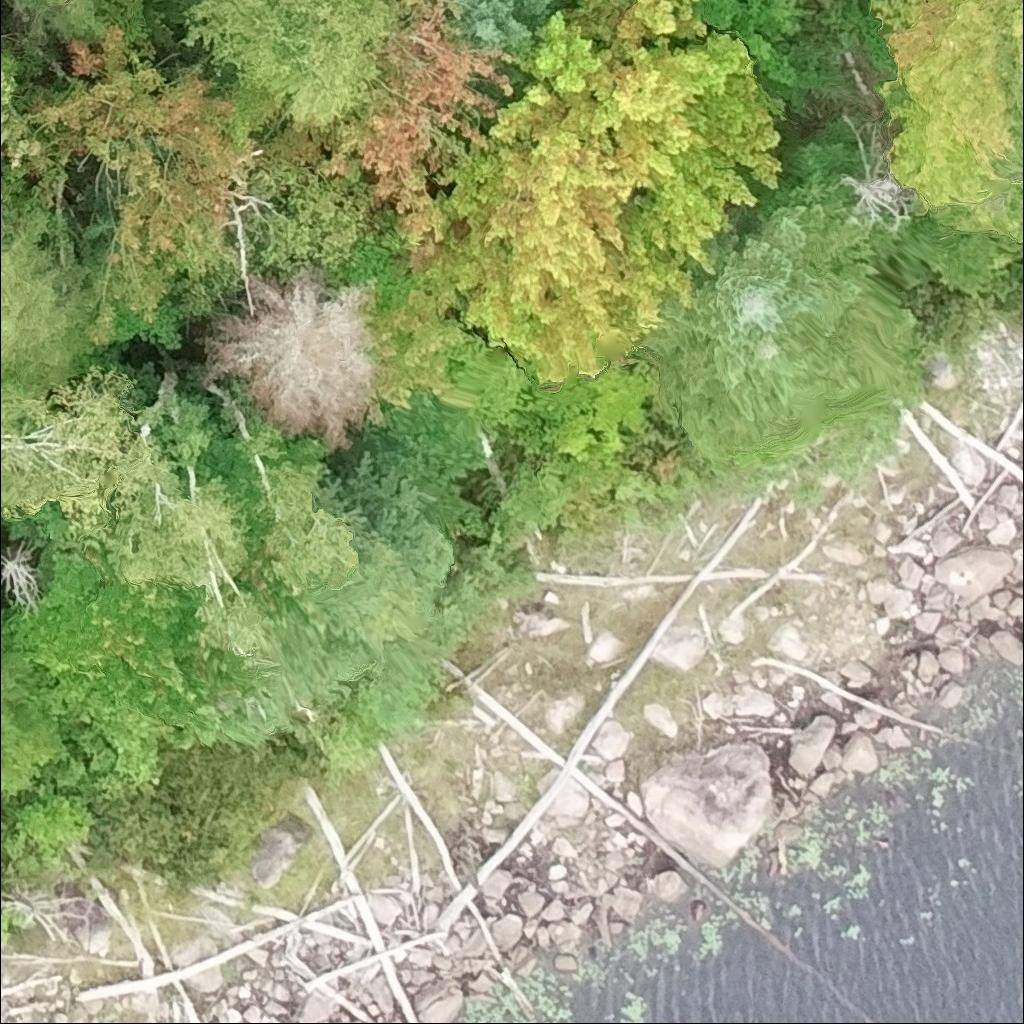crown: (367, 0, 788, 382), (0, 26, 264, 339), (626, 203, 915, 453), (274, 0, 516, 244), (0, 552, 263, 722), (336, 233, 531, 434), (286, 446, 456, 660), (200, 269, 381, 451), (870, 0, 1017, 209), (0, 363, 178, 534), (181, 0, 407, 134), (229, 419, 362, 597), (0, 203, 113, 390), (97, 472, 252, 591), (726, 120, 865, 233), (834, 113, 920, 240), (0, 0, 150, 51), (194, 587, 280, 664), (454, 0, 564, 52), (0, 630, 42, 747), (0, 540, 46, 610), (999, 67, 1023, 181), (0, 378, 44, 436), (995, 0, 1023, 75), (0, 45, 17, 119), (401, 0, 407, 9)
